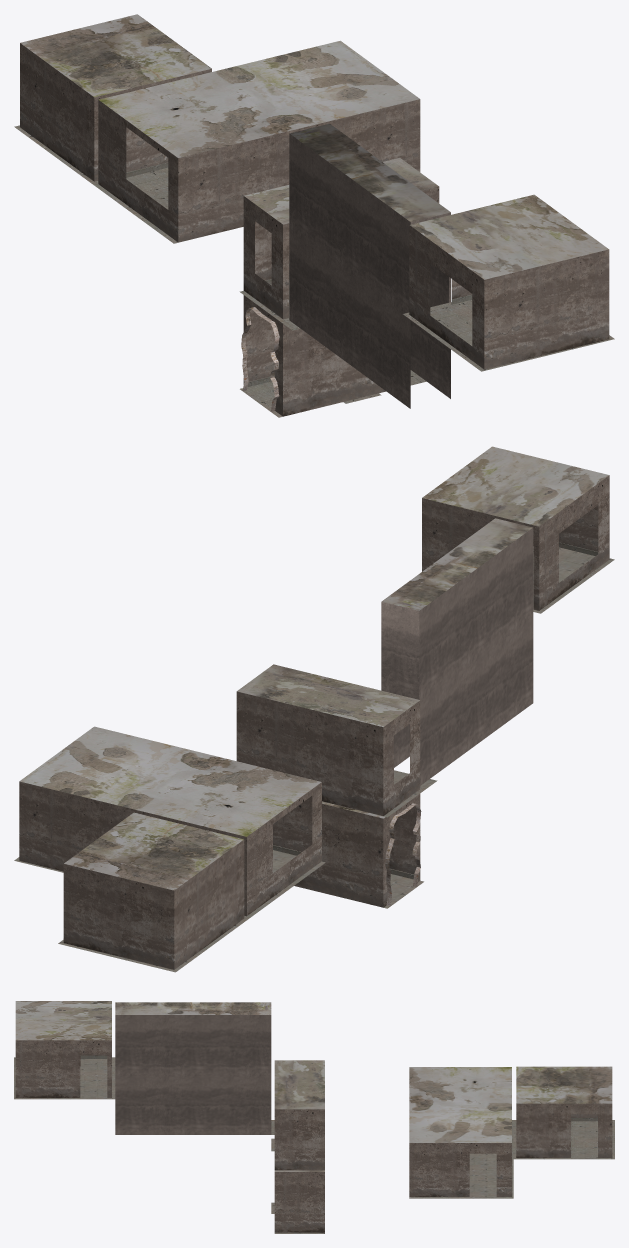
The model's file is A2_LobbyStructure.FBX.
The picture shows the model from 3 angles, top to bottom: view 1: azimuth 30°, elevation 25°; view 2: azimuth 150°, elevation 25°; view 3: azimuth 270°, elevation 25°; orthographic projection. The views are drawn at different scales.
Visible parts, largest first — view 1: A2_LobbyStructure; view 2: A2_LobbyStructure; view 3: A2_LobbyStructure.
Boxes of the visible parts, bbox=[...] form: A2_LobbyStructure: bbox=[14, 14, 614, 417]; A2_LobbyStructure: bbox=[14, 446, 614, 972]; A2_LobbyStructure: bbox=[14, 1001, 614, 1233].
Size of the model in its own units: 864 by 936 by 2789.
